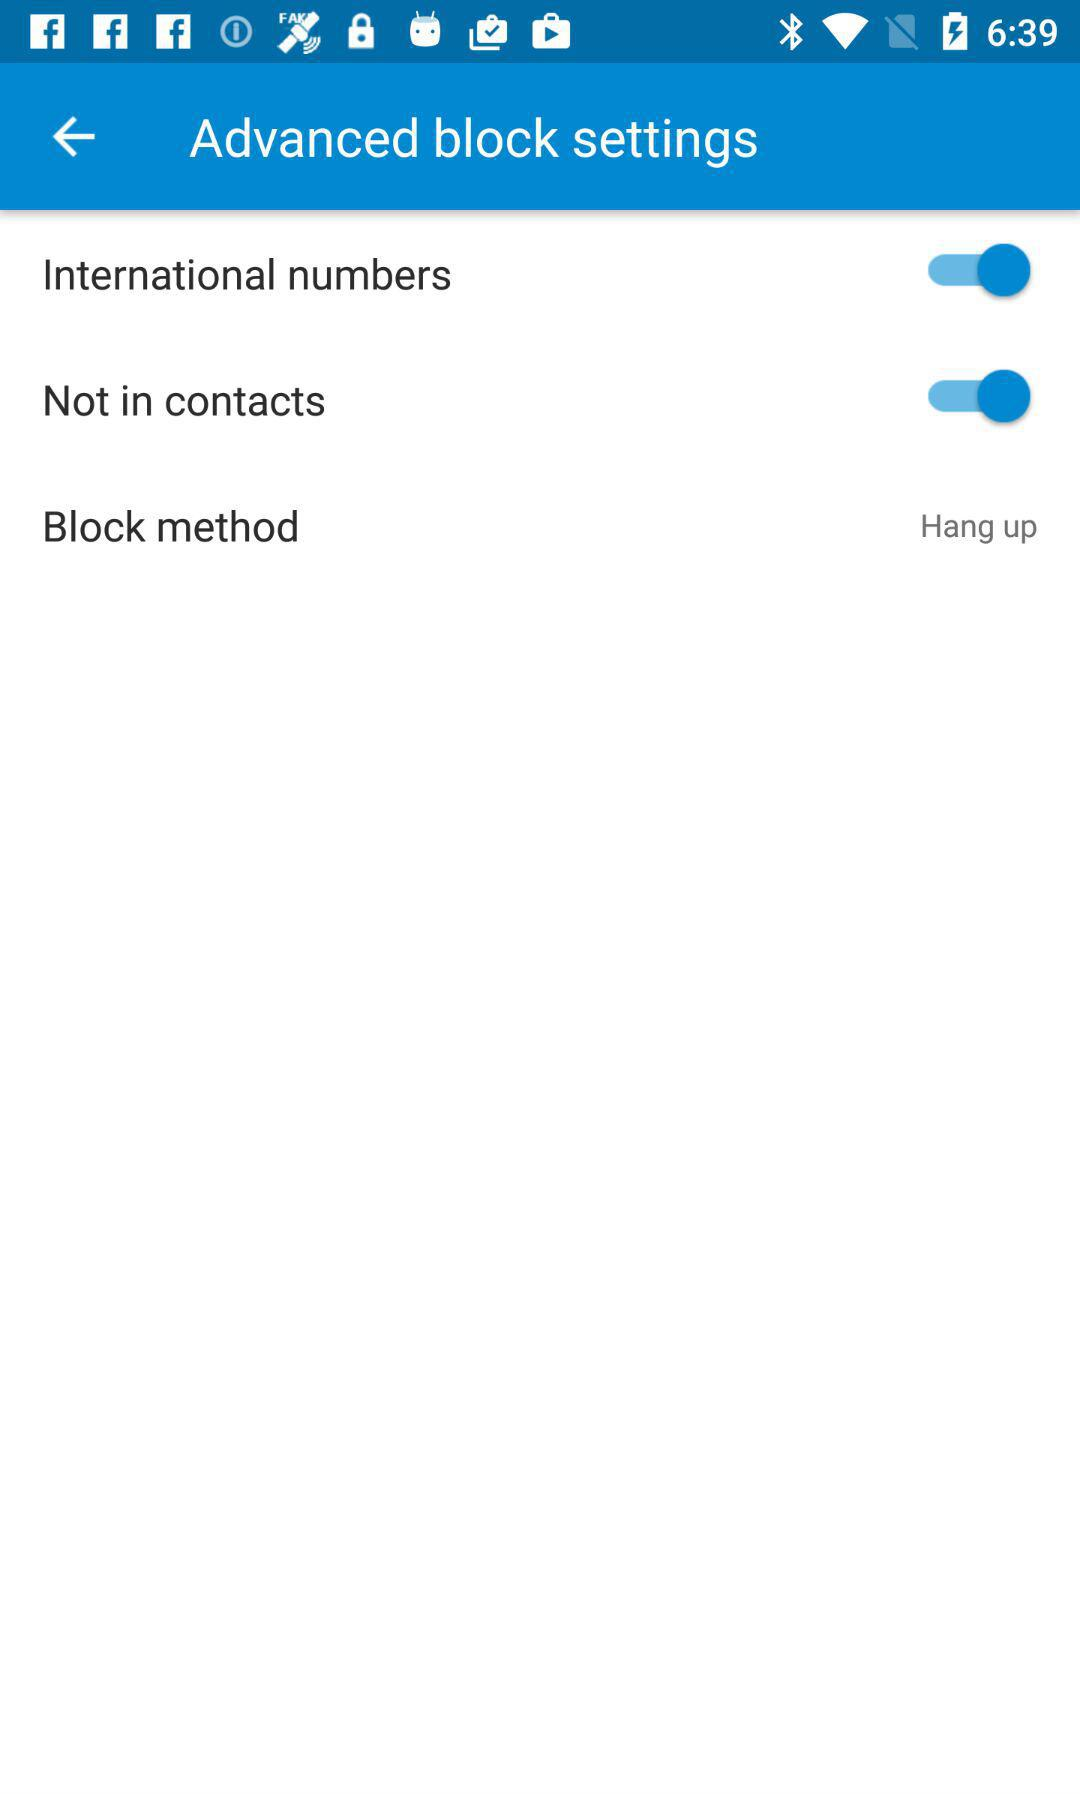Icon: (50, 115, 97, 159)
Switch: (928, 369, 1031, 425), (928, 243, 1033, 299)
Text: (188, 117, 758, 170), (46, 258, 452, 292), (45, 384, 325, 418), (45, 510, 299, 545), (922, 514, 1038, 546)
Toolbar: (1, 65, 1080, 211)
UpperTaskBar: (1, 1, 1080, 64)
